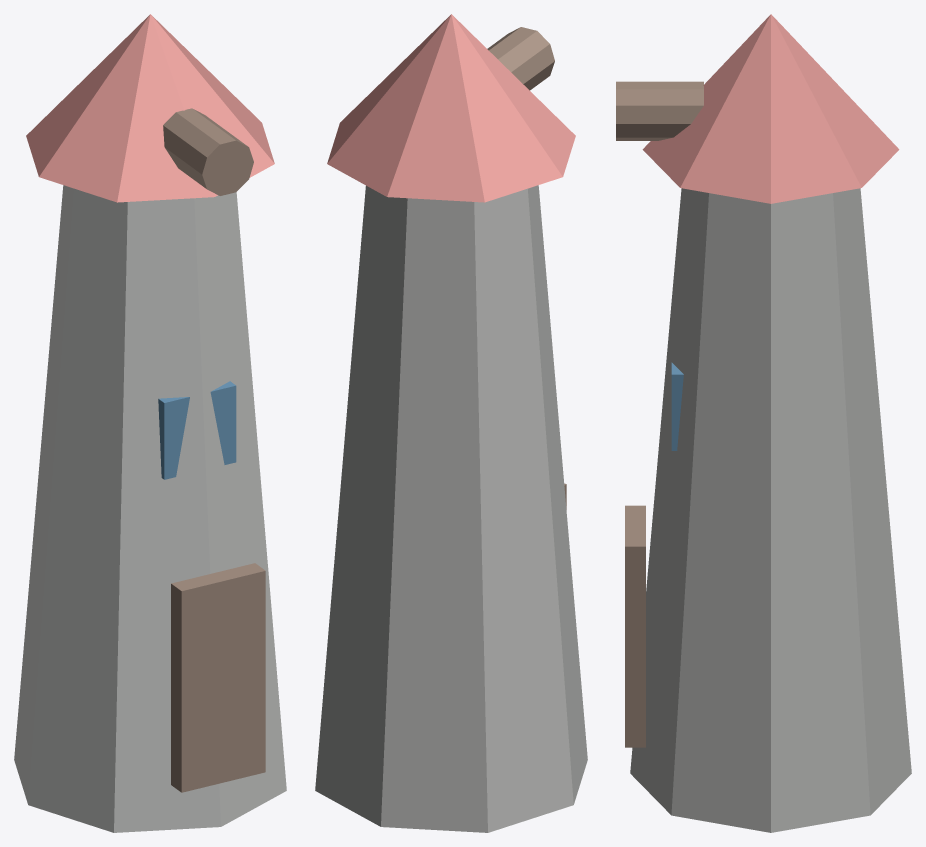
Rendered from molino_torre.glb.
3 renders of one model, left to right at view 1: azimuth 30°, elevation 25°; view 2: azimuth 150°, elevation 25°; view 3: azimuth 270°, elevation 25°, orthographic.
Visible parts, largest first — view 1: molino_torre; view 2: molino_torre; view 3: molino_torre.
Boxes of the visible parts, x1=… form: molino_torre: x1=14, y1=14, x2=286, y2=832; molino_torre: x1=315, y1=14, x2=587, y2=832; molino_torre: x1=616, y1=14, x2=911, y2=832.
Size of the model in its own units: 1.6 by 4.76 by 1.68.
